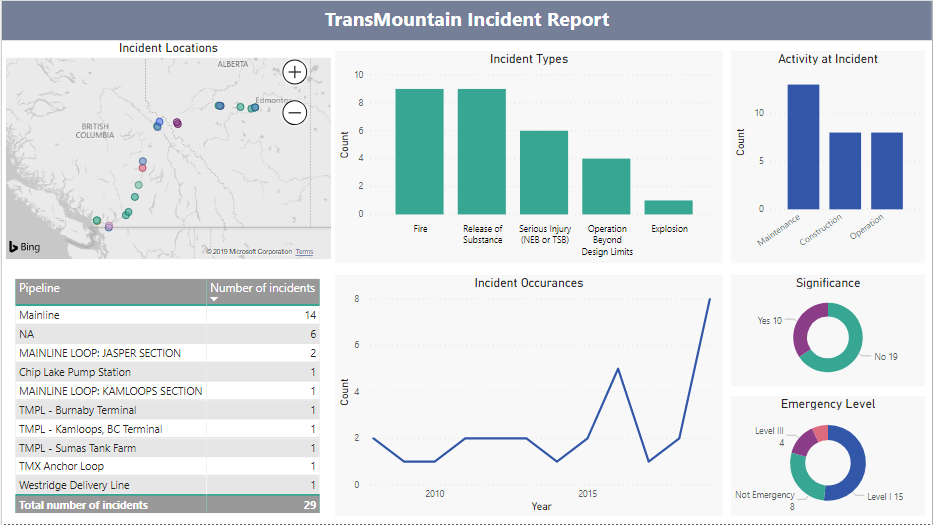

The dashboard page shown, as its layout file describes it:
{"tool":"powerbi","page":{"name":"Incidents Overview","canvas":[1280,720],"ordinal":0},"visuals":[{"type":"map","title":"Incident Locations","fields":{"Y":["TransMountainIncidents.latitude"],"X":["TransMountainIncidents.longitude"],"Series":["TransMountainIncidents.pipeline_name"]},"box":[0,53.7,458.4,307],"z":0},{"type":"lineChart","title":"Incident Occurances","fields":{"Y":["CountNonNull(TransMountainIncidents (2).reported_date)"],"Category":["TransMountainIncidents (2).reported_date.Variation.Date Hierarchy.Year","TransMountainIncidents (2).reported_date.Variation.Date Hierarchy.Month"]},"box":[458.4,377.2,534.1,331.8],"z":1000},{"type":"textbox","box":[0,0,1280.3,53.7],"z":2000},{"type":"columnChart","title":"Incident Types","fields":{"Category":["TransMountainIncidents.incident_type"],"Y":["CountNonNull(TransMountainIncidents.incident_type)"]},"box":[458.4,68.8,534.1,291.9],"z":3000},{"type":"tableEx","fields":{"Values":["TransMountainIncidents.pipeline_name","TransMountainIncidents (2).incident_number"]},"box":[12.4,377.2,446,342.8],"z":4000},{"type":"donutChart","title":"Significance","fields":{"Category":["TransMountainIncidents (2).significant"],"Y":["CountNonNull(TransMountainIncidents (2).significant)"]},"box":[1003.6,377.2,267.1,152.8],"z":5000},{"type":"columnChart","title":"Activity at Incident","fields":{"Category":["TransMountainIncidents.activity_being_performed_at_time_of_incident"],"Y":["CountNonNull(TransMountainIncidents.activity_being_performed_at_time_of_incident)"]},"box":[1003.6,68.8,267.1,291.9],"z":6000},{"type":"donutChart","title":"Emergency Level","fields":{"Category":["TransMountainIncidents (2).emergency_level"],"Y":["CountNonNull(TransMountainIncidents (2).emergency_level)"]},"box":[1003.6,543.8,267.1,165.2],"z":7000}]}

Visuals, with their boxes in screenshot pixels (x1, y1, x2, y2), scaled from the page's 1280x720 canvas onto the 933x525 screenshot:
"Incident Locations" map: (x1=0, y1=39, x2=334, y2=263)
"Incident Occurances" lineChart: (x1=334, y1=275, x2=723, y2=517)
textbox: (x1=0, y1=0, x2=932, y2=39)
"Incident Types" columnChart: (x1=334, y1=50, x2=723, y2=263)
tableEx - TransMountainIncidents.pipeline_name x TransMountainIncidents (2).incident_number: (x1=9, y1=275, x2=334, y2=524)
"Significance" donutChart: (x1=732, y1=275, x2=926, y2=386)
"Activity at Incident" columnChart: (x1=732, y1=50, x2=926, y2=263)
"Emergency Level" donutChart: (x1=732, y1=397, x2=926, y2=517)
